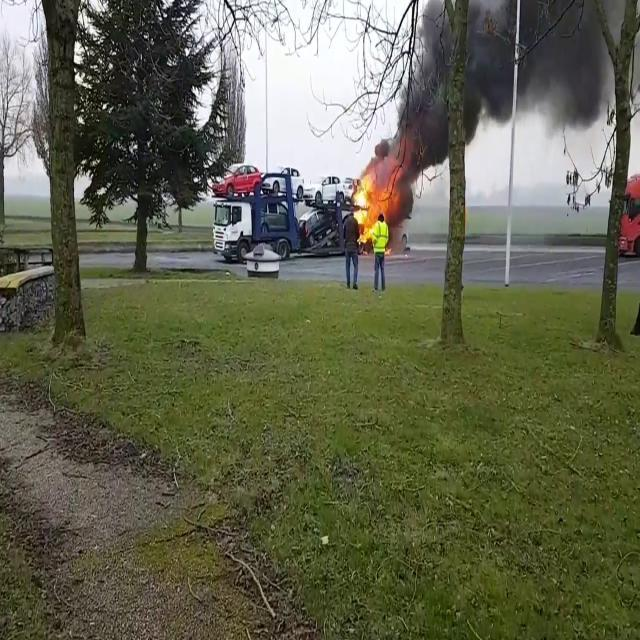Fire: (348, 164, 399, 248)
Smoke: (463, 2, 613, 138), (386, 2, 456, 185)
